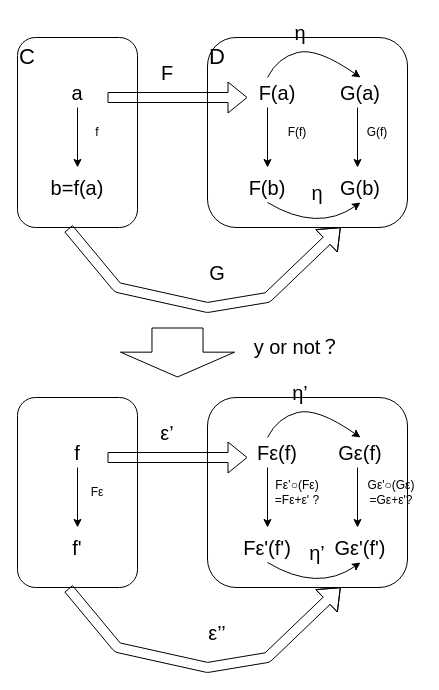
Some shapes in this 439 by 690 pixel diagram are drawn without their labels. The box of each missing label's shape, as (x1, y1, x2, y2) in pixels:
C’: (16, 396, 138, 588)
D’: (206, 396, 408, 588)
